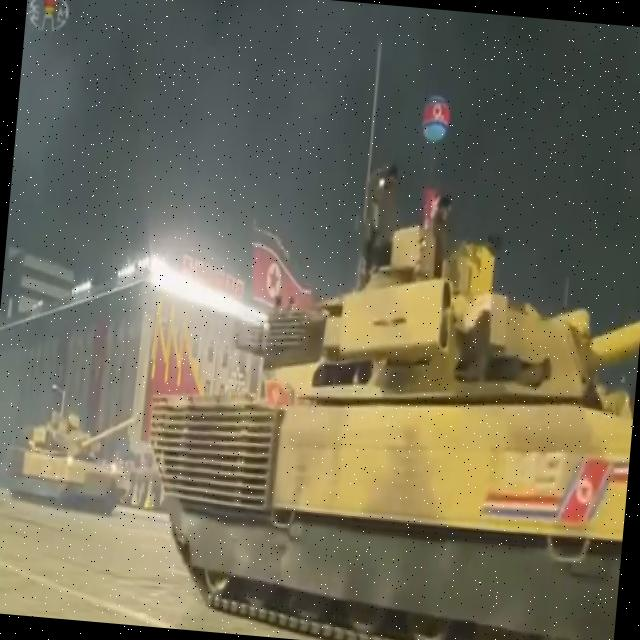north tank: (133, 145, 640, 640), (0, 341, 148, 536)
